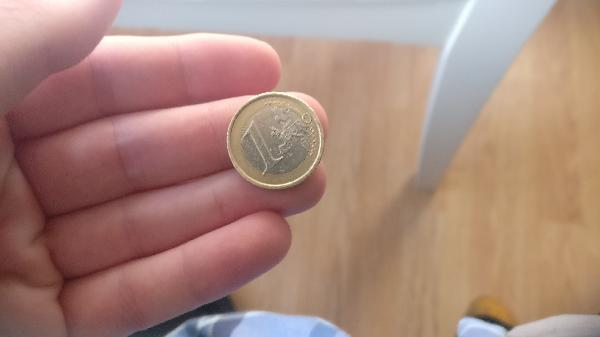One Euro: (227, 91, 324, 191)
